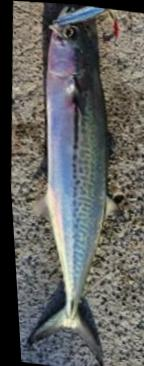fish: (24, 3, 111, 366)
